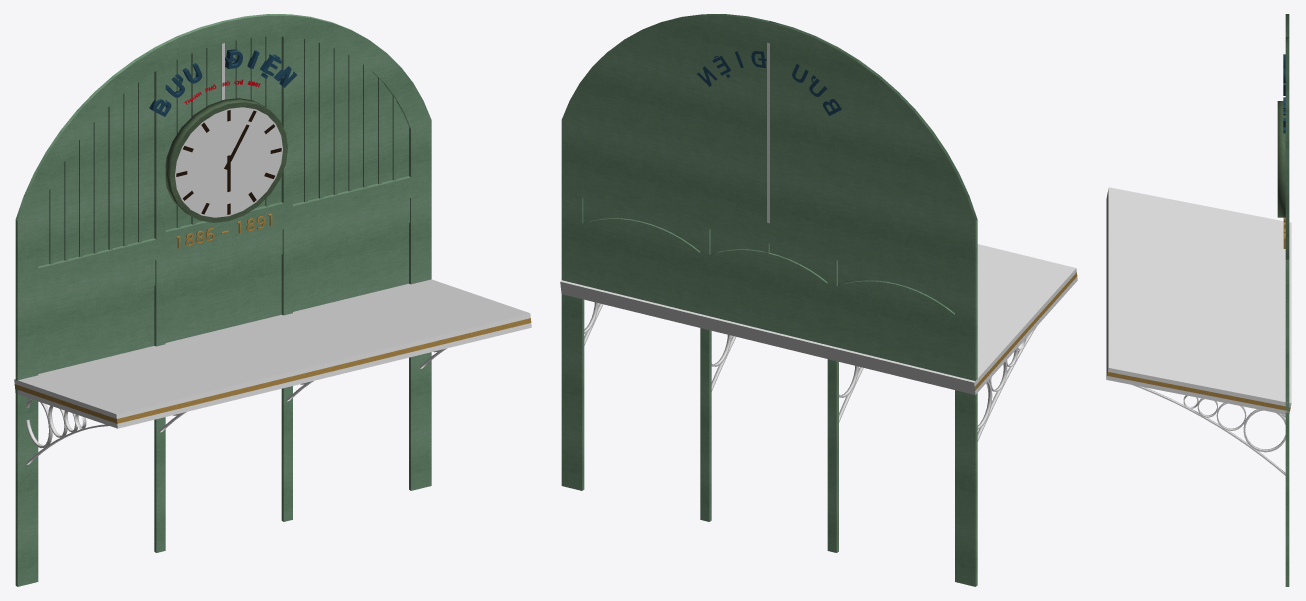
The model's file is gate_middle.glb.
3 renders of one model, left to right at view 1: azimuth 30°, elevation 25°; view 2: azimuth 150°, elevation 25°; view 3: azimuth 270°, elevation 25°, orthographic. The views are drawn at different scales.
Parts seen in each view (by area): view 1: C-Component#56.004; view 2: C-Component#56.004; view 3: C-Component#56.004.
Boxes of the visible parts, box(x1,y1,x2,y2) form: C-Component#56.004: box(14, 14, 531, 586); C-Component#56.004: box(560, 14, 1077, 586); C-Component#56.004: box(1106, 14, 1291, 586).
Size of the model in its own units: 5.55 by 6.58 by 2.41.
Materials: 11 (5 with a texture image).
